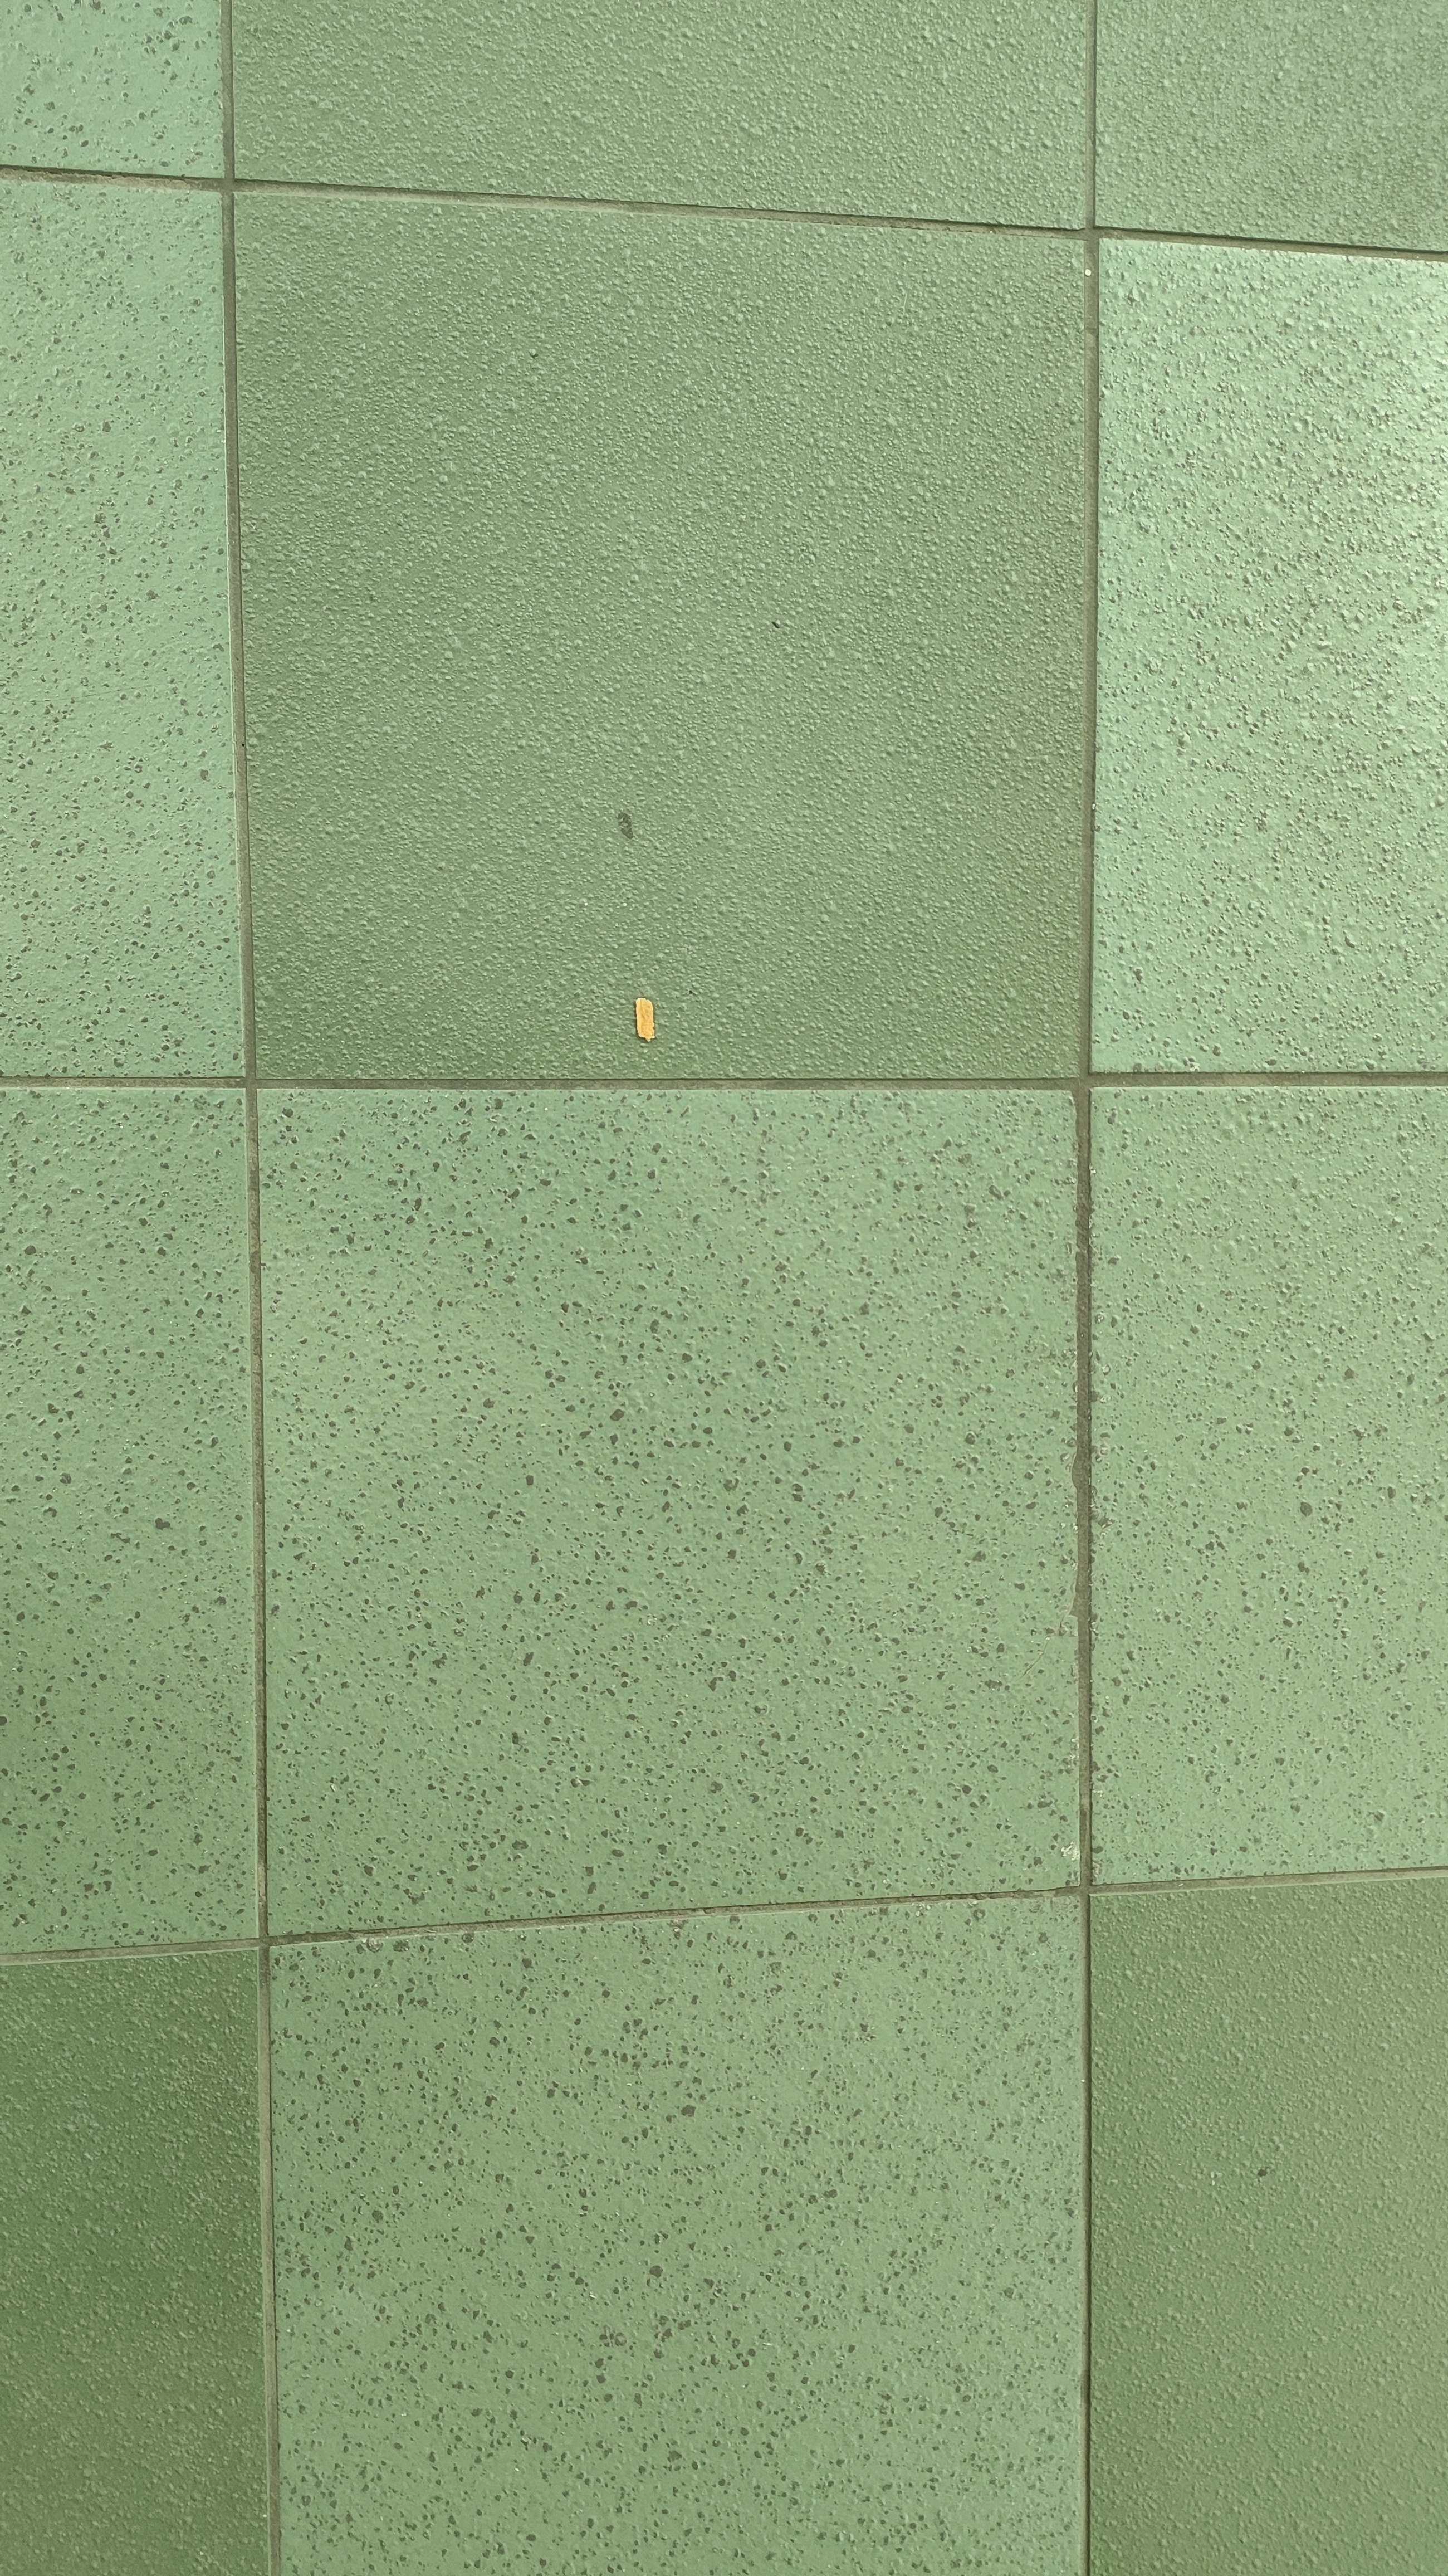Garbage: (612, 991, 675, 1054)
